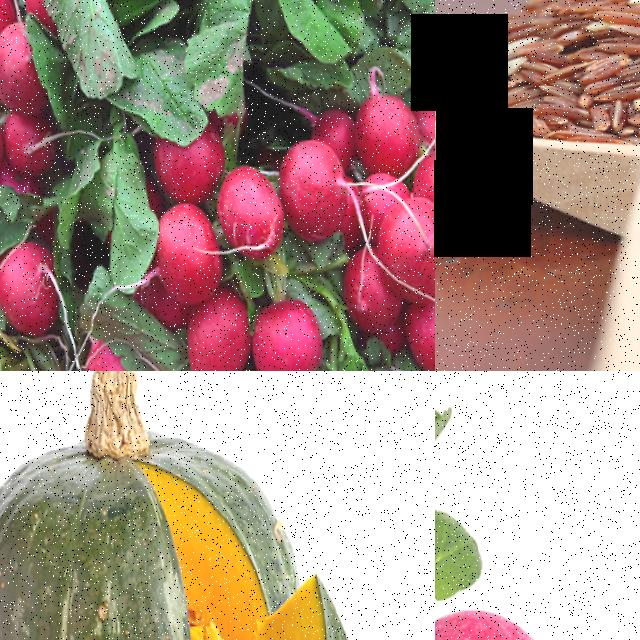pumpkin: (0, 371, 198, 640), (200, 563, 373, 640)
radishes: (71, 104, 279, 371), (273, 66, 435, 360), (0, 0, 96, 190), (0, 192, 80, 371)
red rice: (435, 0, 640, 138)
